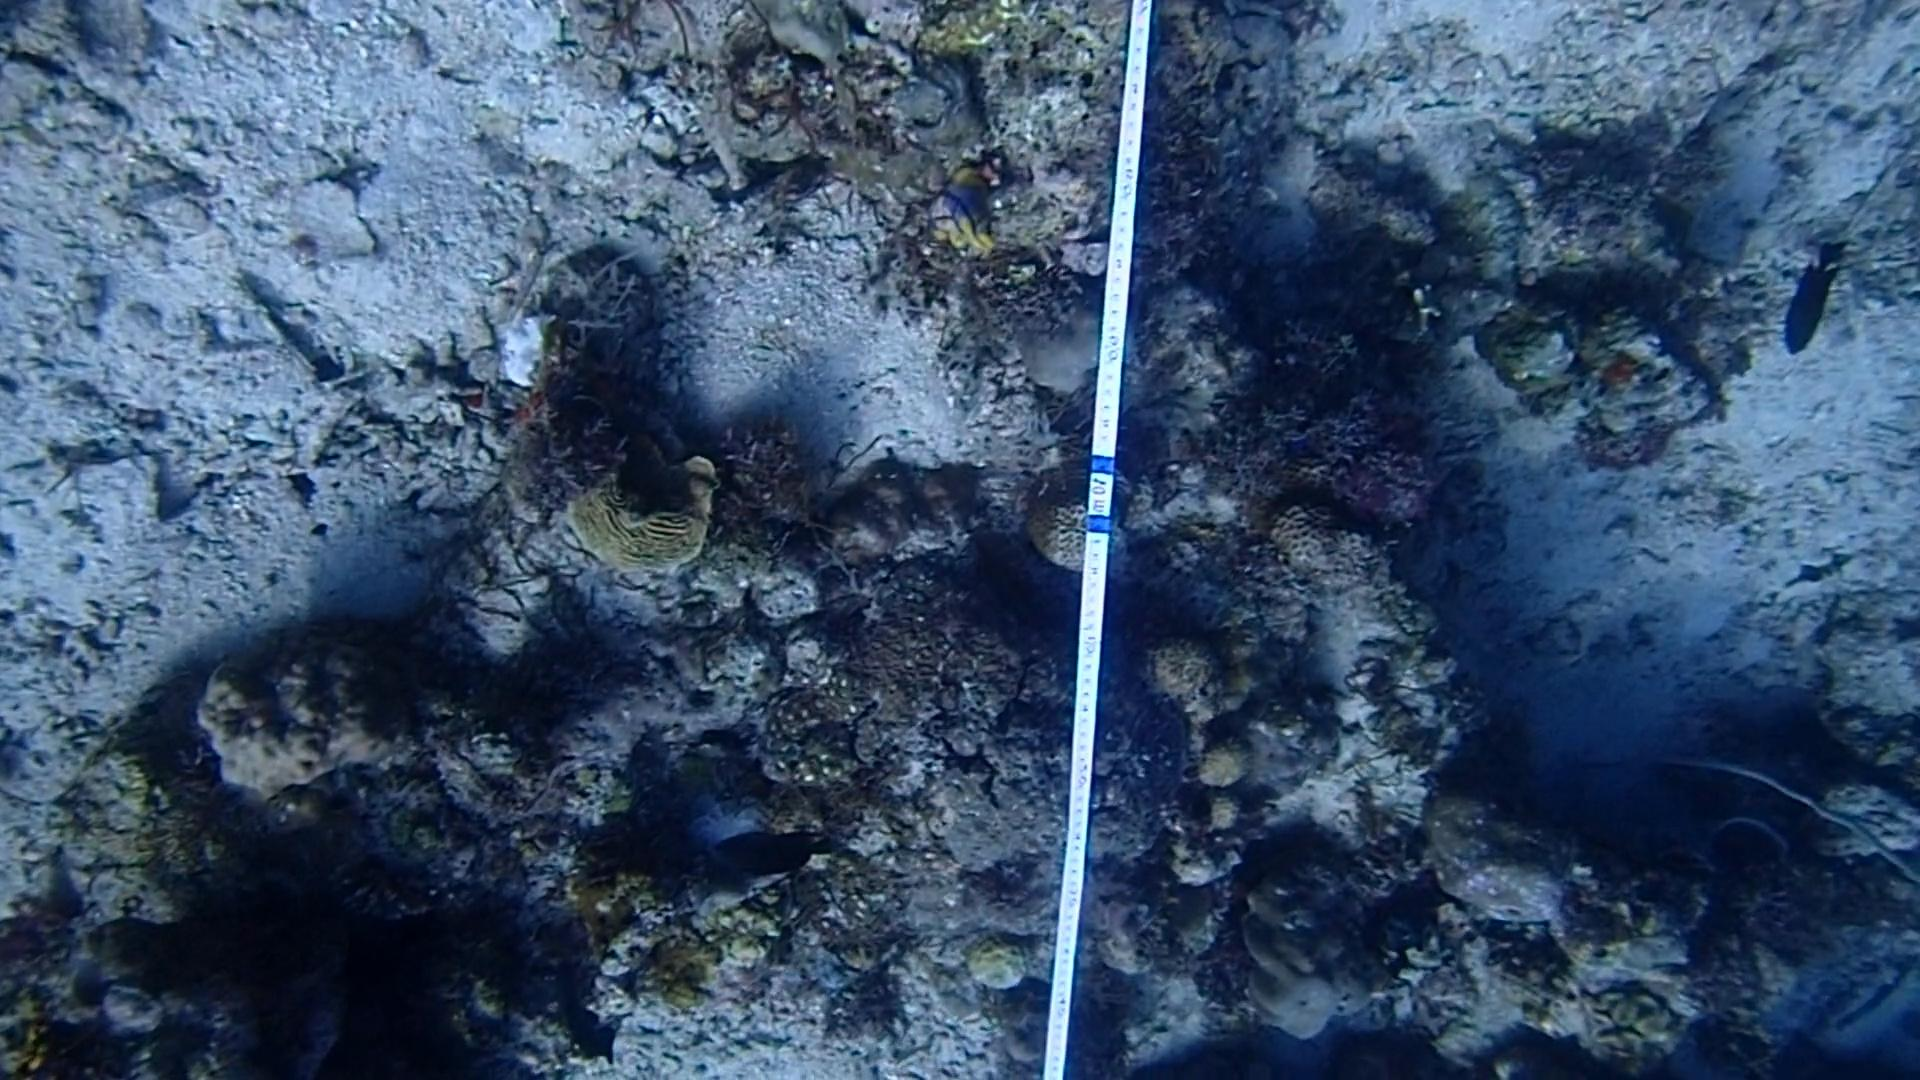Dark Fish: (1770, 232, 1853, 372), (703, 822, 819, 889)
